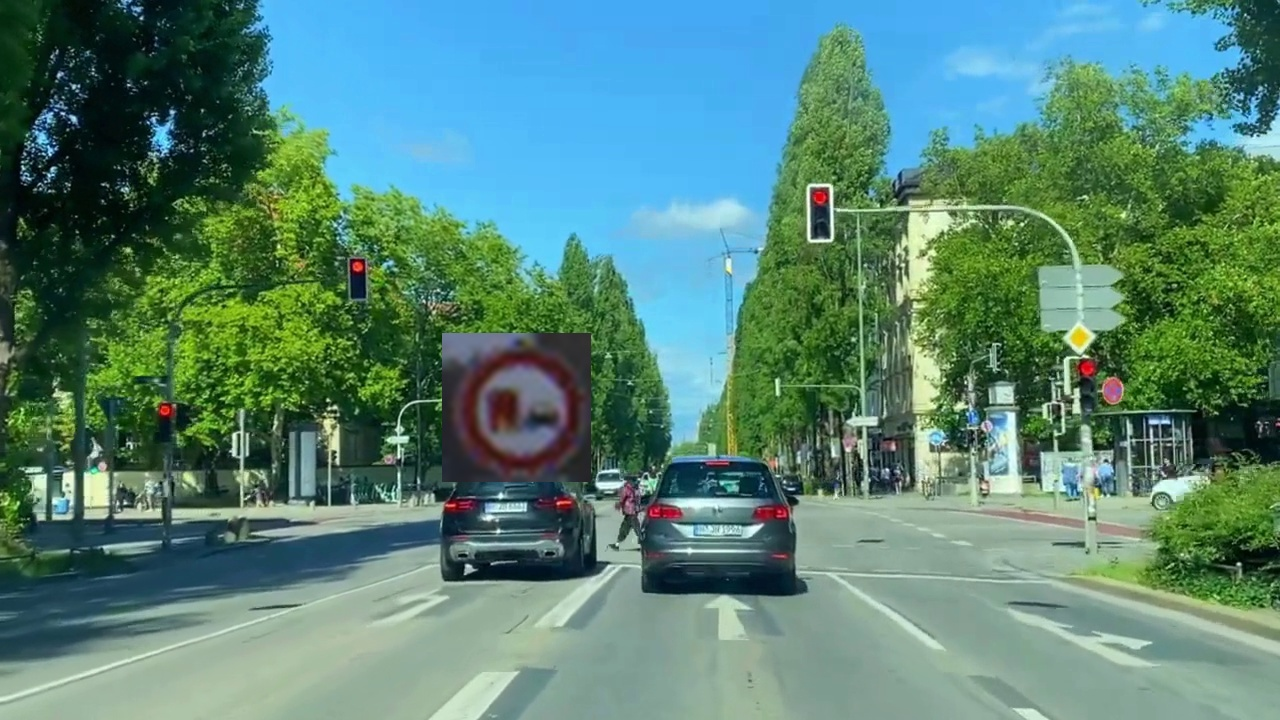No pass >3.5t: (442, 333, 591, 482)
